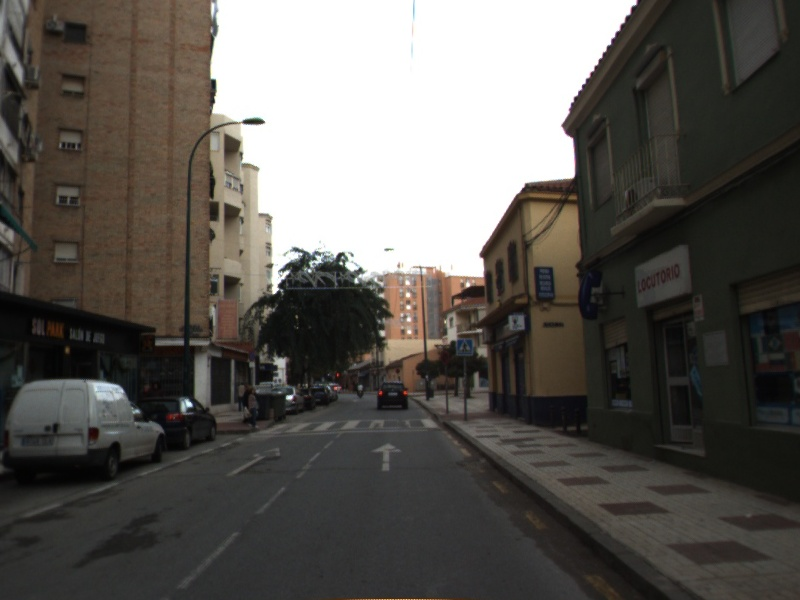STRAIGHT: (222, 445, 282, 479), (368, 441, 405, 473)
